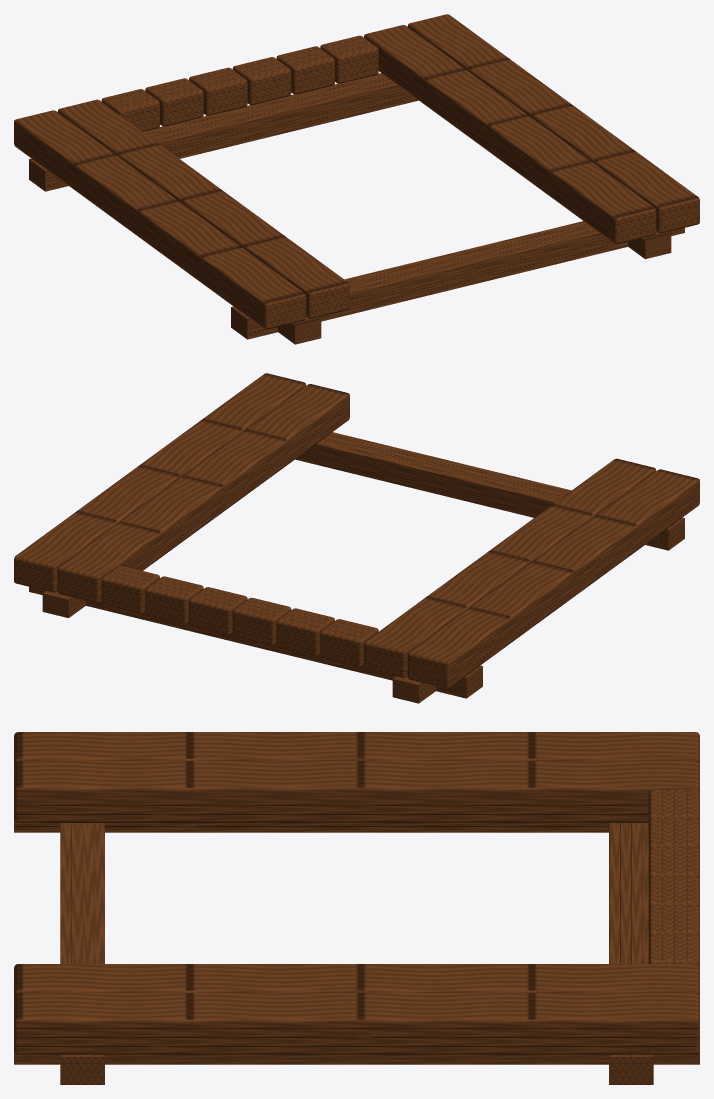
Rendered from modular-survival-base-builder-floor-stairwell-frame-c66472dc__24147.glb.
3 views of the same model, one above another, from view 1: azimuth 30°, elevation 25°; view 2: azimuth 150°, elevation 25°; view 3: azimuth 270°, elevation 25° (orthographic). The views are drawn at different scales.
Visible parts, largest first — view 1: floor-stairwell-frame; view 2: floor-stairwell-frame; view 3: floor-stairwell-frame.
Part boxes in pixels (x1,y1,x2,y2): floor-stairwell-frame: (14,14,699,344); floor-stairwell-frame: (14,373,699,703); floor-stairwell-frame: (14,732,699,1084).
Size of the model in its own units: 2 by 0.21 by 2.
1 material, 1 textured.
